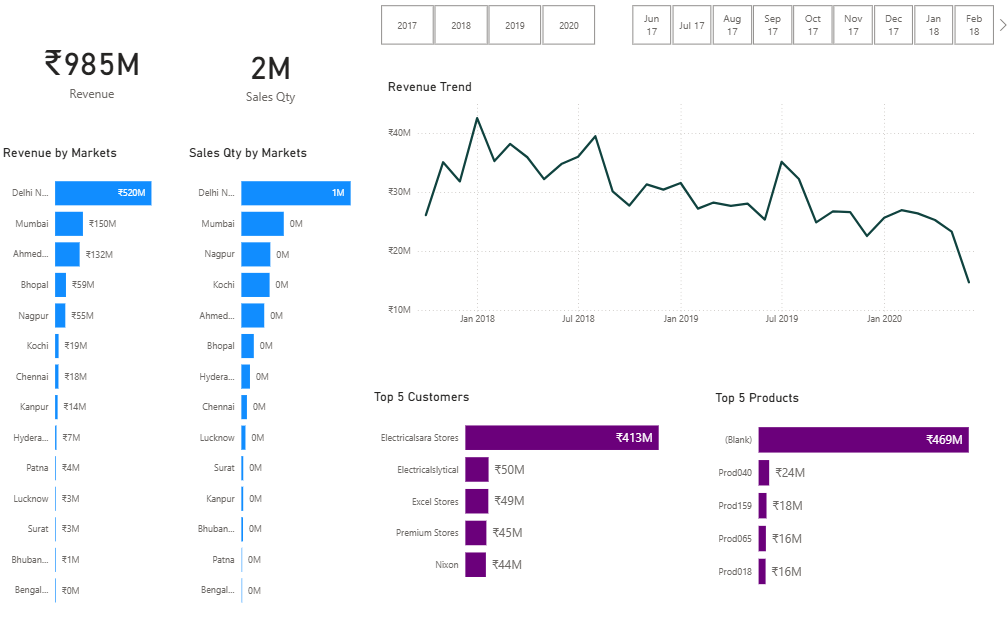

This screenshot's page, from the dashboard's own definition file:
{"tool":"powerbi","page":{"name":"Key Insights","canvas":[1350,850],"ordinal":0},"visuals":[{"type":"card","fields":{"Values":["BaseMeasures (2).Revenue"]},"box":[0,0,247.9,184.6],"z":0},{"type":"card","fields":{"Values":["BaseMeasures (2).Sales Qty"]},"box":[247.9,0,227.9,193.1],"z":1000},{"type":"barChart","title":"Revenue by Markets","fields":{"Y":["BaseMeasures (2).Revenue"],"Category":["sales markets.markets_name"]},"box":[0,193.1,247.9,631.9],"z":2000},{"type":"barChart","title":"Sales Qty by Markets","fields":{"Y":["BaseMeasures (2).Sales Qty"],"Category":["sales markets.markets_name"]},"box":[247.9,193.1,247.9,631.9],"z":3000},{"type":"slicer","fields":{"Values":["sales date.year"]},"box":[483.2,0,335.5,66.5],"z":4000},{"type":"slicer","fields":{"Values":["sales date.cy_date"]},"box":[818.6,0,531.7,66.5],"z":5000},{"type":"barChart","title":"Top 5 Customers","fields":{"Y":["BaseMeasures (2).Revenue"],"Category":["sales customers.custmer_name"]},"box":[495.8,519,446.2,274.3],"z":6000},{"type":"barChart","title":"Top 5 Products","fields":{"Y":["BaseMeasures (2).Revenue"],"Category":["sales products.product_code"]},"box":[950.7,519.2,399.5,282.8],"z":7000},{"type":"lineChart","title":"Revenue Trend","fields":{"Y":["BaseMeasures (2).Revenue"],"Category":["sales date.cy_date"]},"box":[513.8,104.4,809.1,338.6],"z":8000}]}

Visuals, with their boxes in screenshot pixels (x1, y1, x2, y2), scaled from the page's 1350x850 canvas onto the 1008x634 screenshot:
card - BaseMeasures (2).Revenue: <box>0,0,185,138</box>
card - BaseMeasures (2).Sales Qty: <box>185,0,355,144</box>
"Revenue by Markets" barChart: <box>0,144,185,615</box>
"Sales Qty by Markets" barChart: <box>185,144,370,615</box>
slicer - sales date.year: <box>361,0,611,50</box>
slicer - sales date.cy_date: <box>611,0,1007,50</box>
"Top 5 Customers" barChart: <box>370,387,703,592</box>
"Top 5 Products" barChart: <box>710,387,1007,598</box>
"Revenue Trend" lineChart: <box>384,78,988,330</box>
